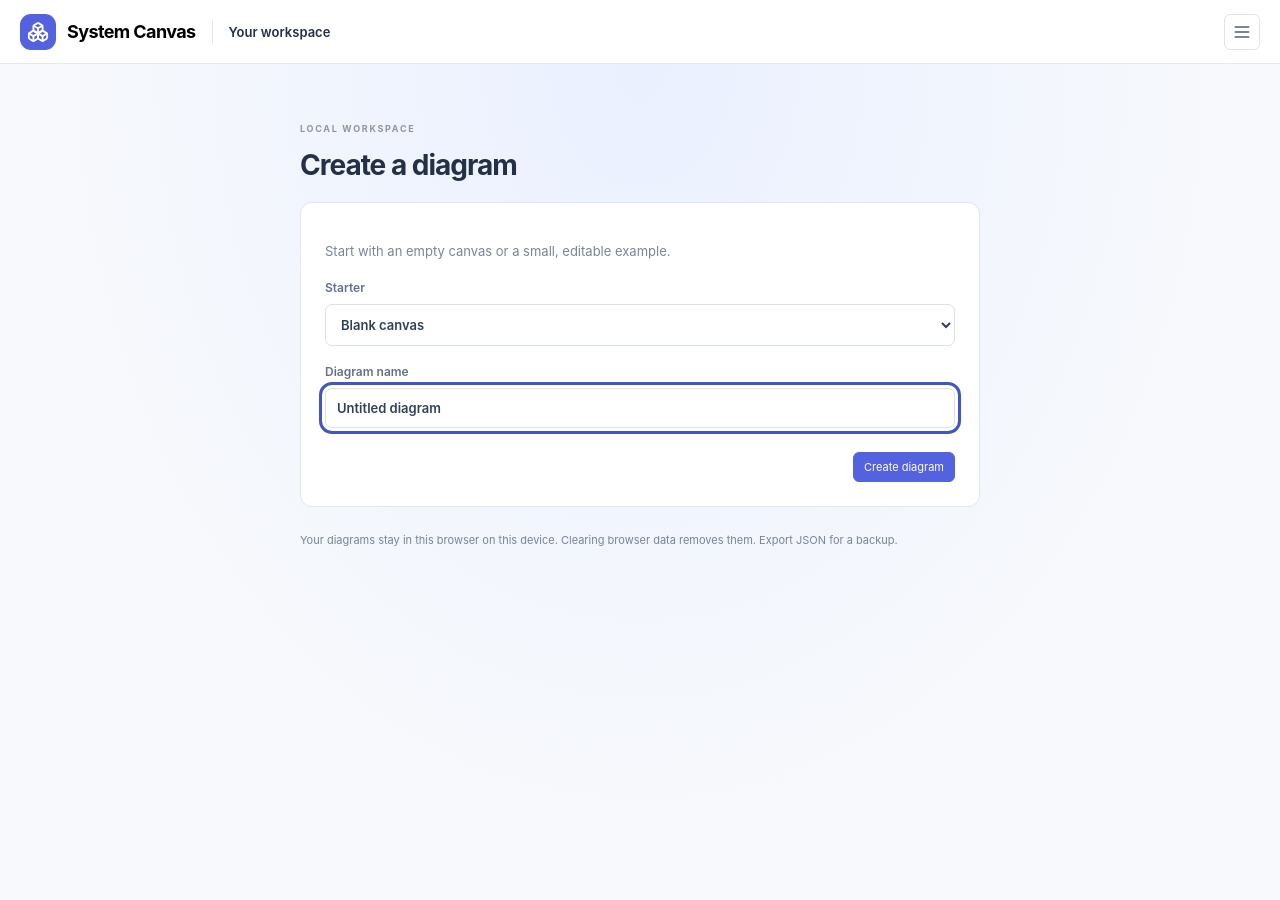
a pending inline rename does not close a newly opened dialog
Expected: the heading "Create a diagram" is shown, [300,148,517,182]
Replace the text in the field labelled "Diagram name" with "Cleanup integration": (640, 408) [325,388,955,428]
Select "Web application" in the dropdown labelled "Starter": (640, 325) [325,304,955,346]
Click the button "Create diagram": (904, 467) [853,452,955,482]
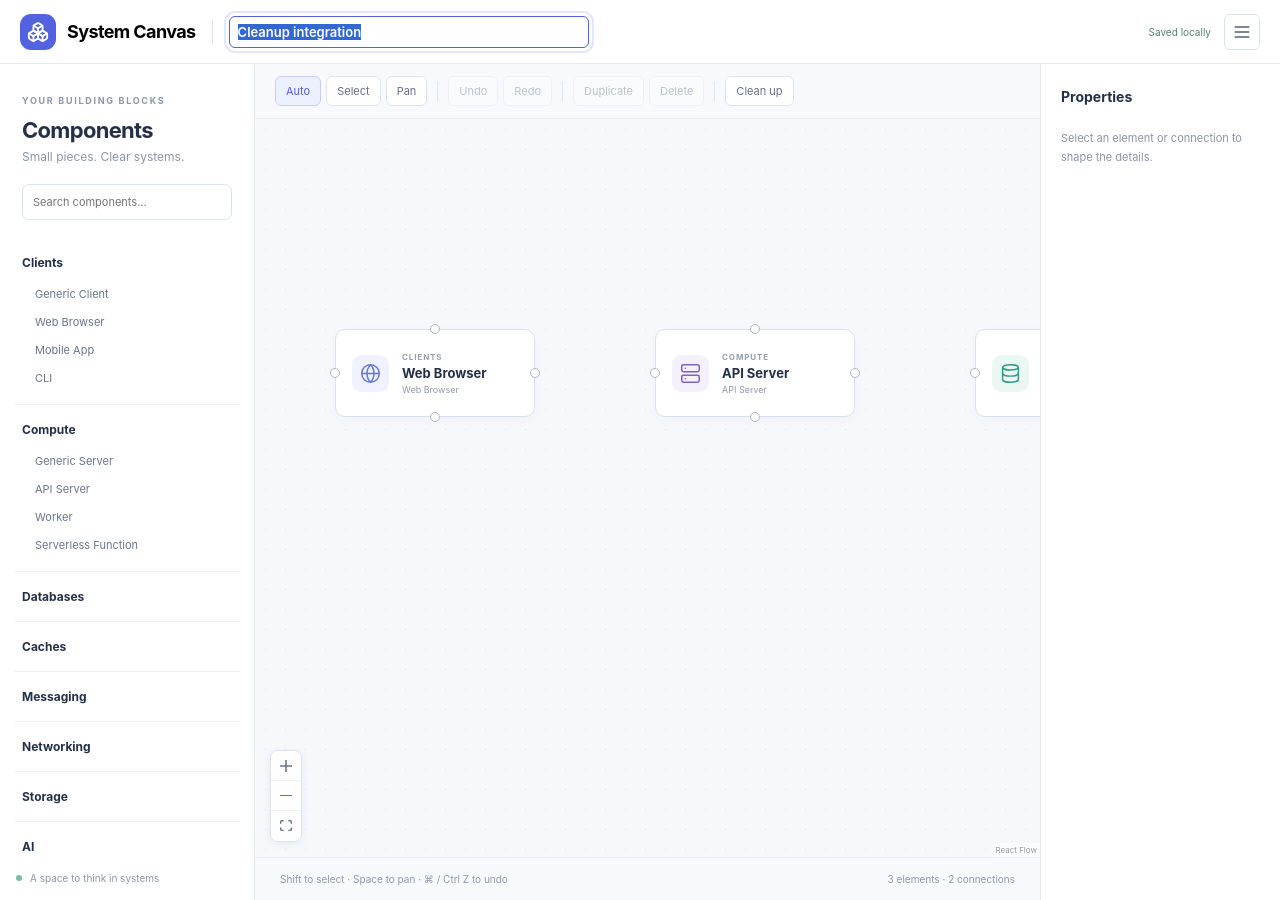
Expected: the element named "Canvas tools" is shown, [275,76,794,106]
Replace the text in the field named "Diagram title" with "Renamed": (408, 32) [228,16,588,48]
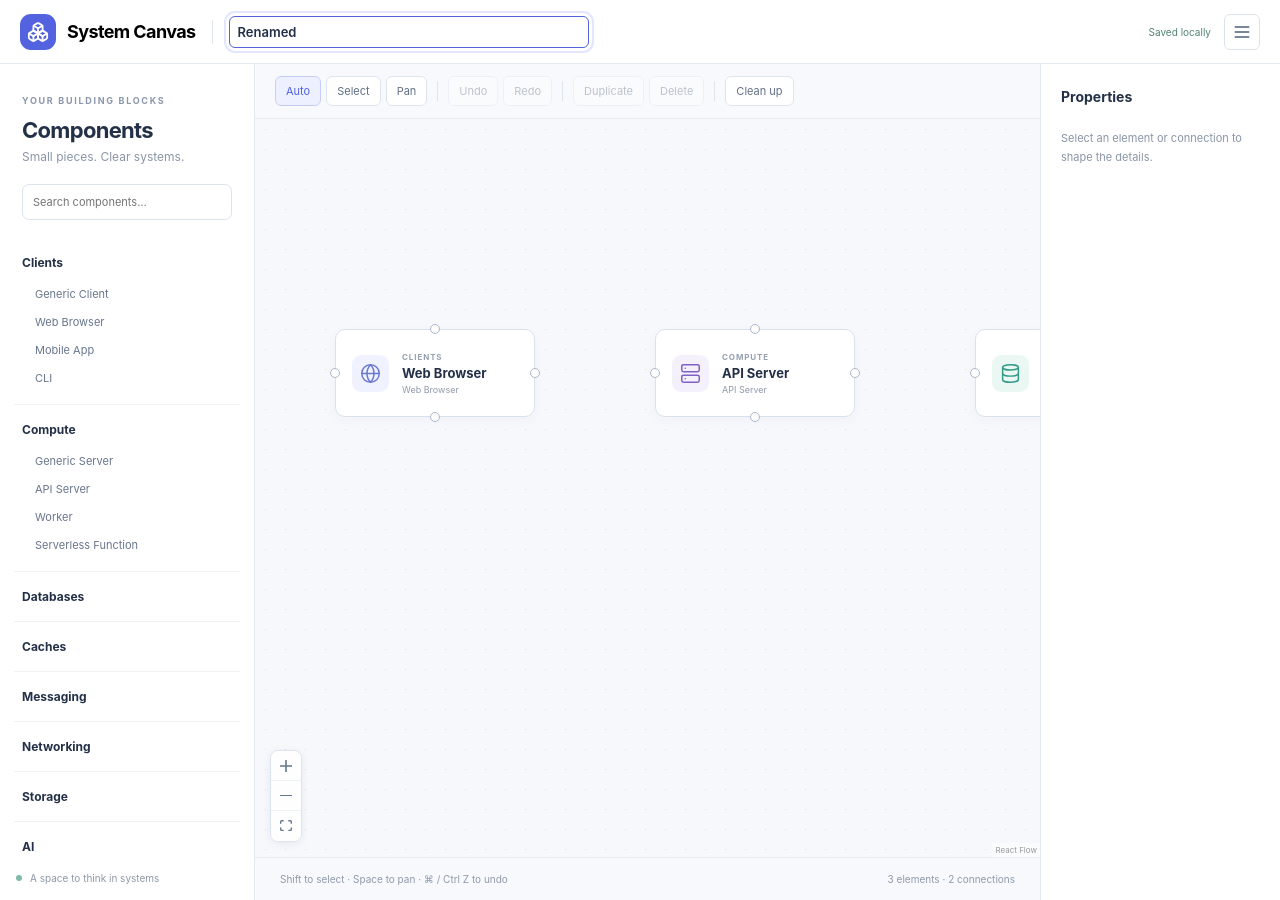
Press Enter in the field named "Diagram title", box [228,16,588,48]
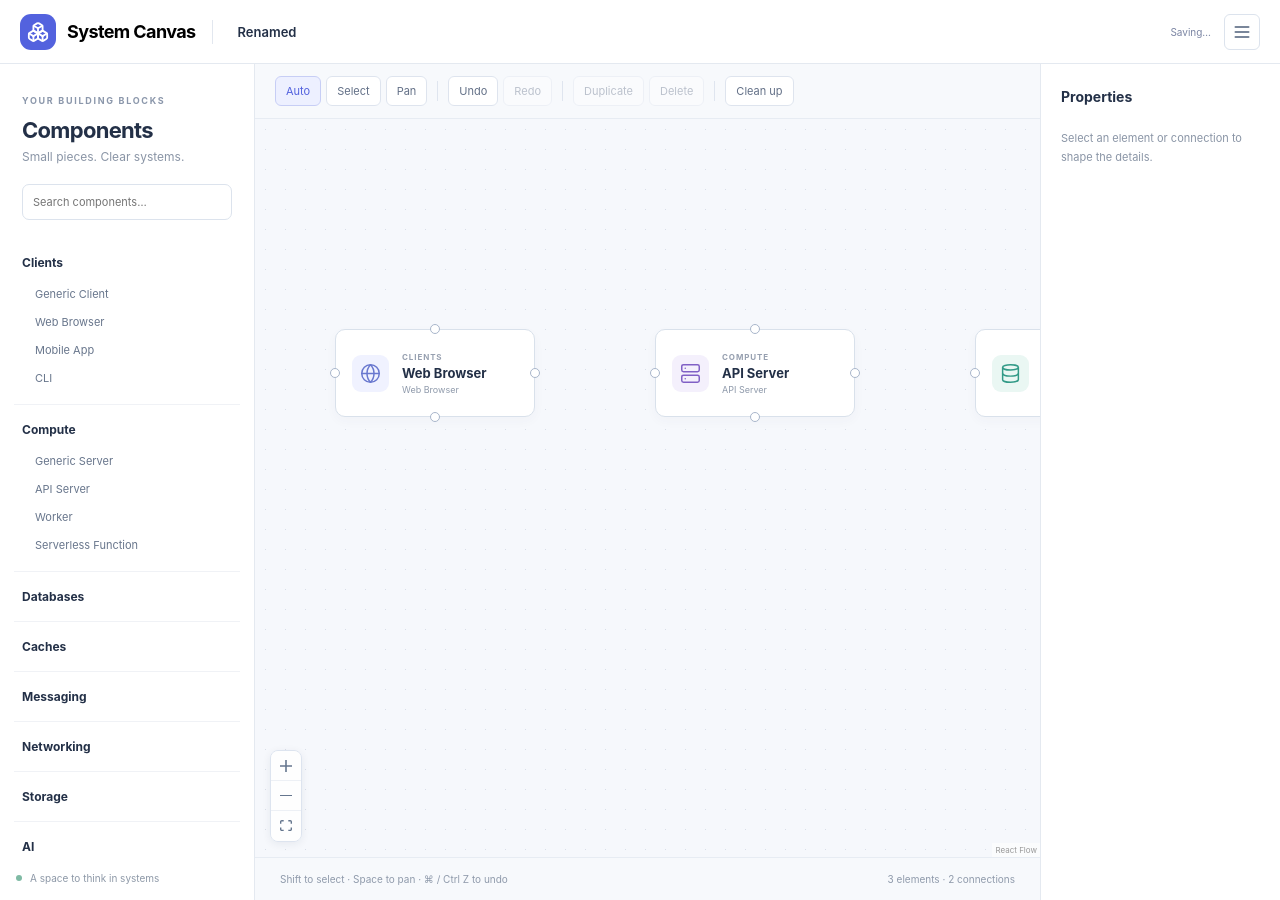
Expected: the text "Saving…" is shown, [1170,26,1211,38]
Click the button named "Diagram actions": (1242, 32) [1224,14,1260,50]
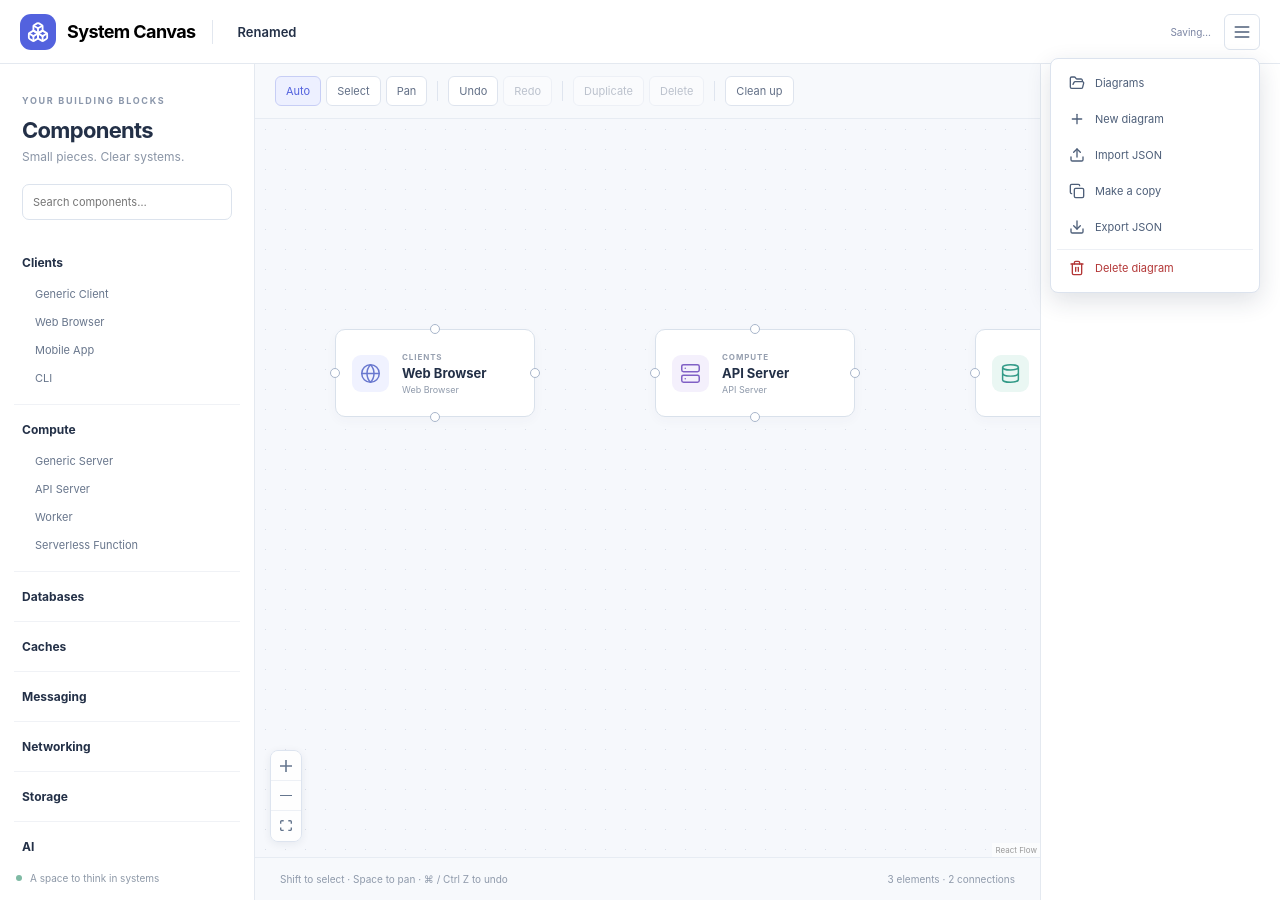
Click the button "New diagram": (1155, 118) [1057,100,1253,136]
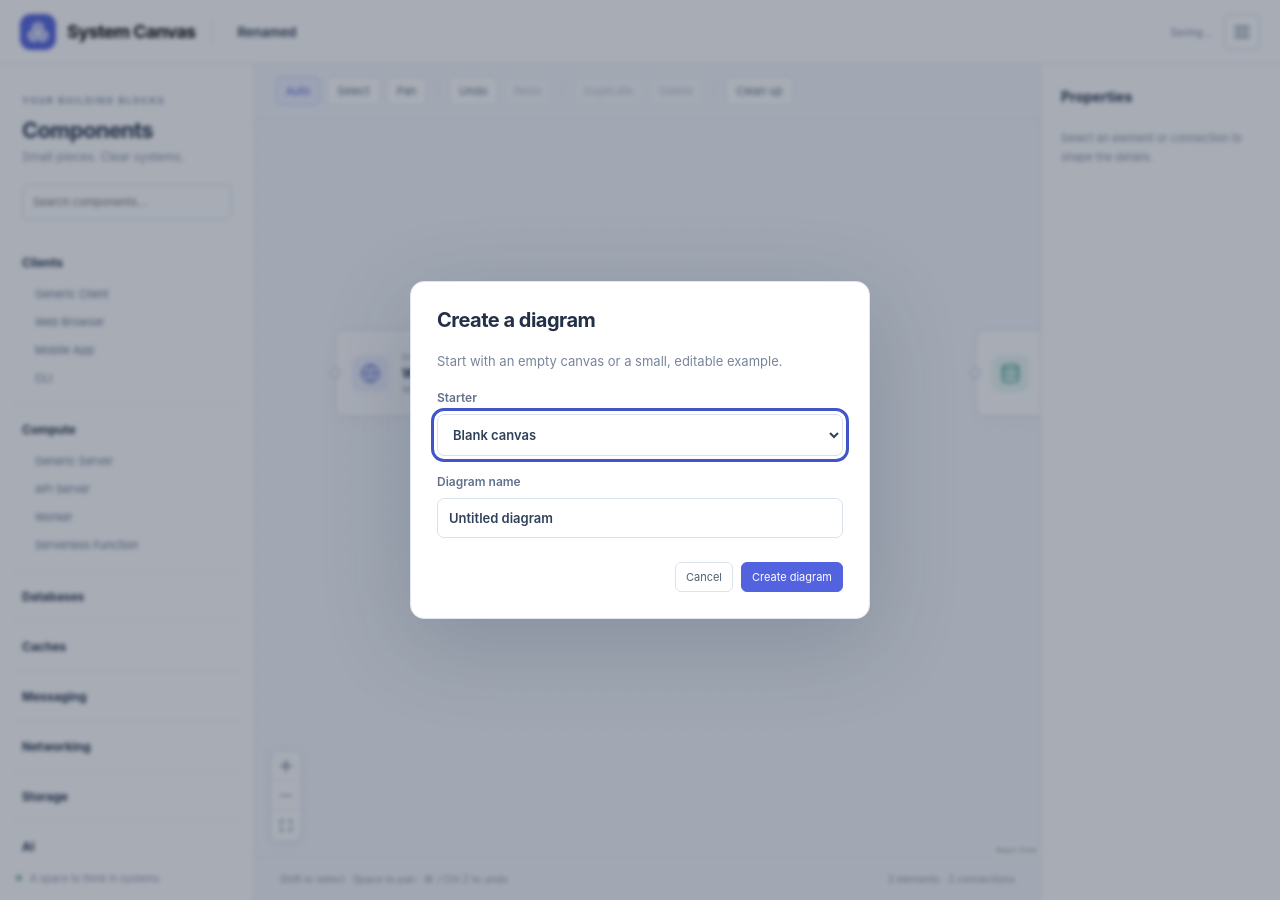
Replace the text in the field labelled "Diagram name" with "Unsaved new diagram": (640, 518) [437,498,843,538]
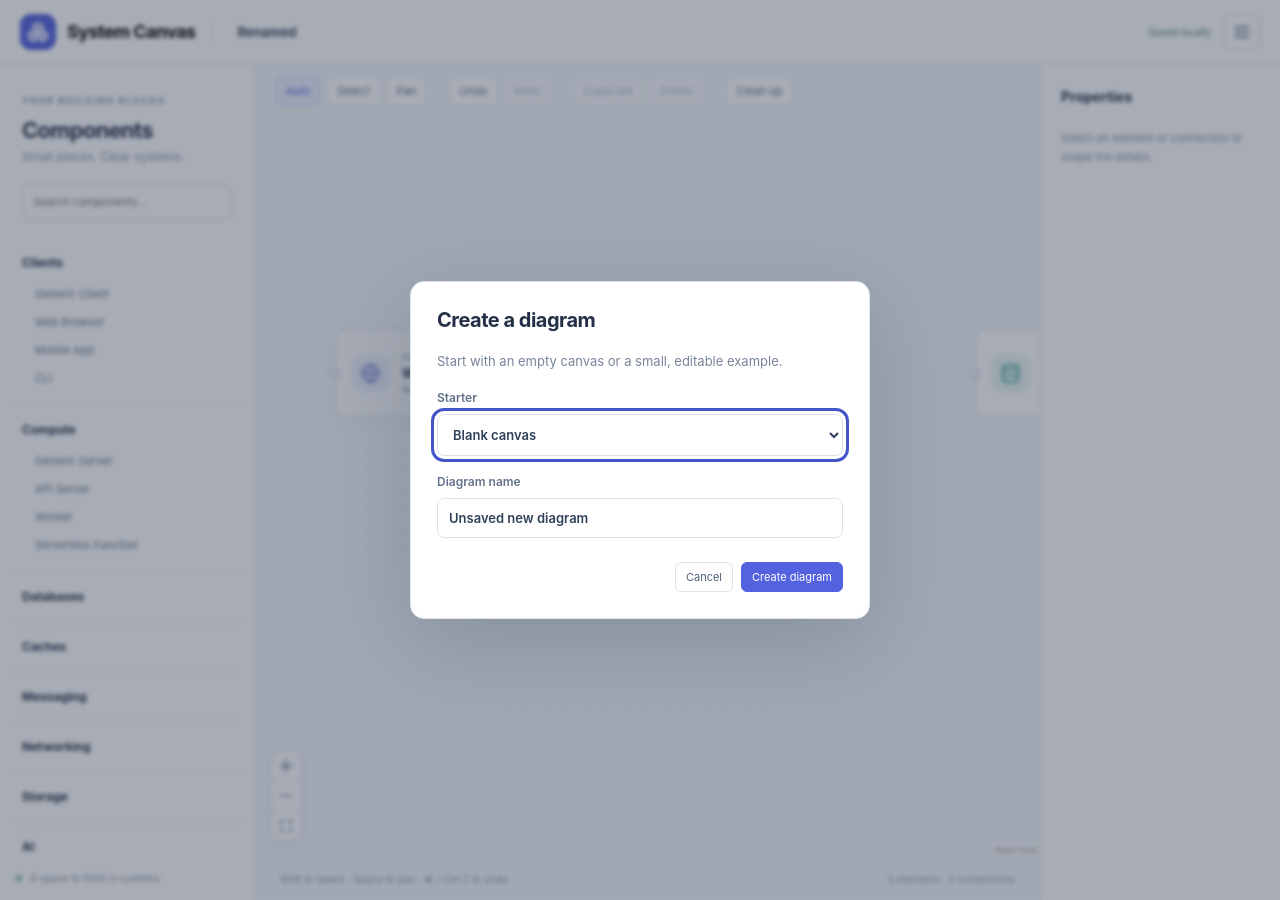
Expected: the text "Saved locally" is shown, [1149,26,1211,38]
